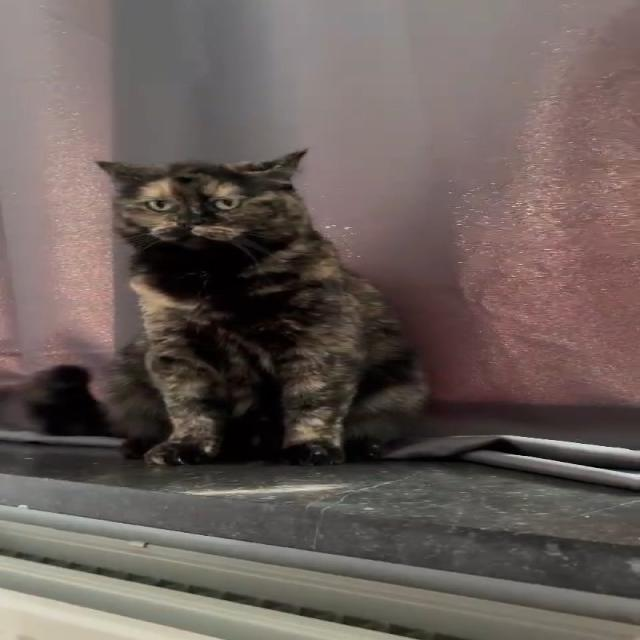authorized: (92, 146, 431, 466)
